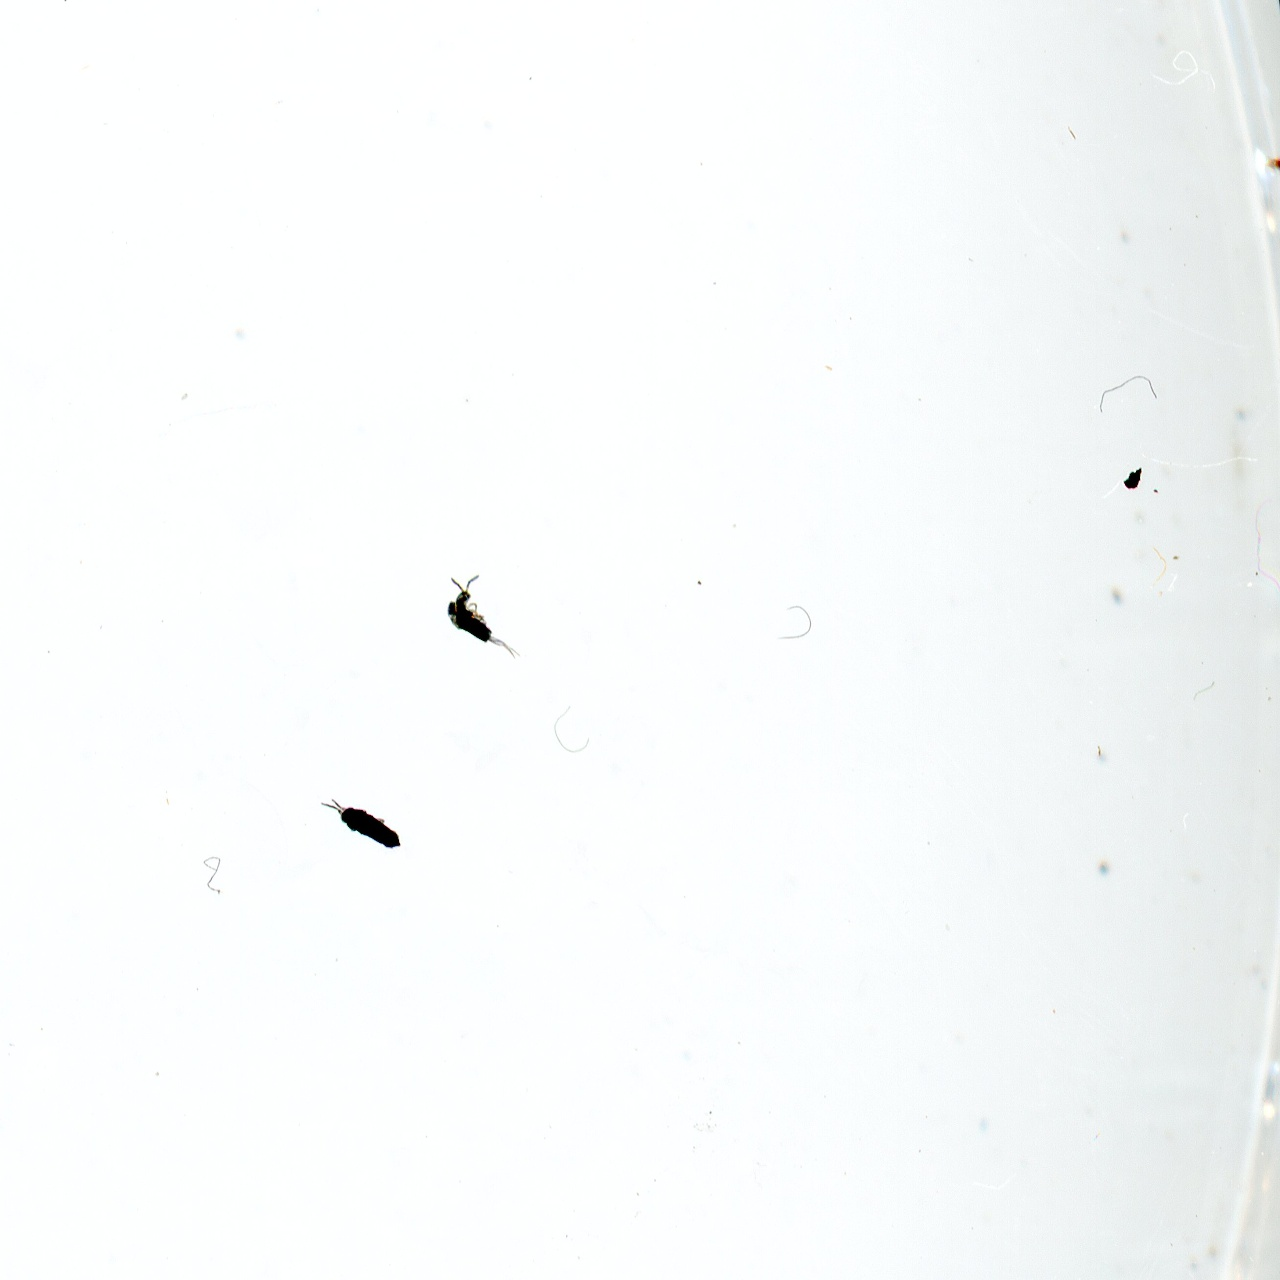arthropod: (305, 778, 442, 877), (435, 568, 530, 669)
